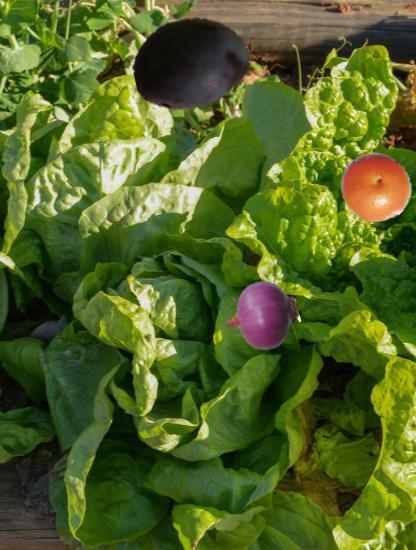Onion: (224, 279, 299, 354)
Plum: (133, 4, 251, 122)
Tangelo: (340, 151, 413, 224)
